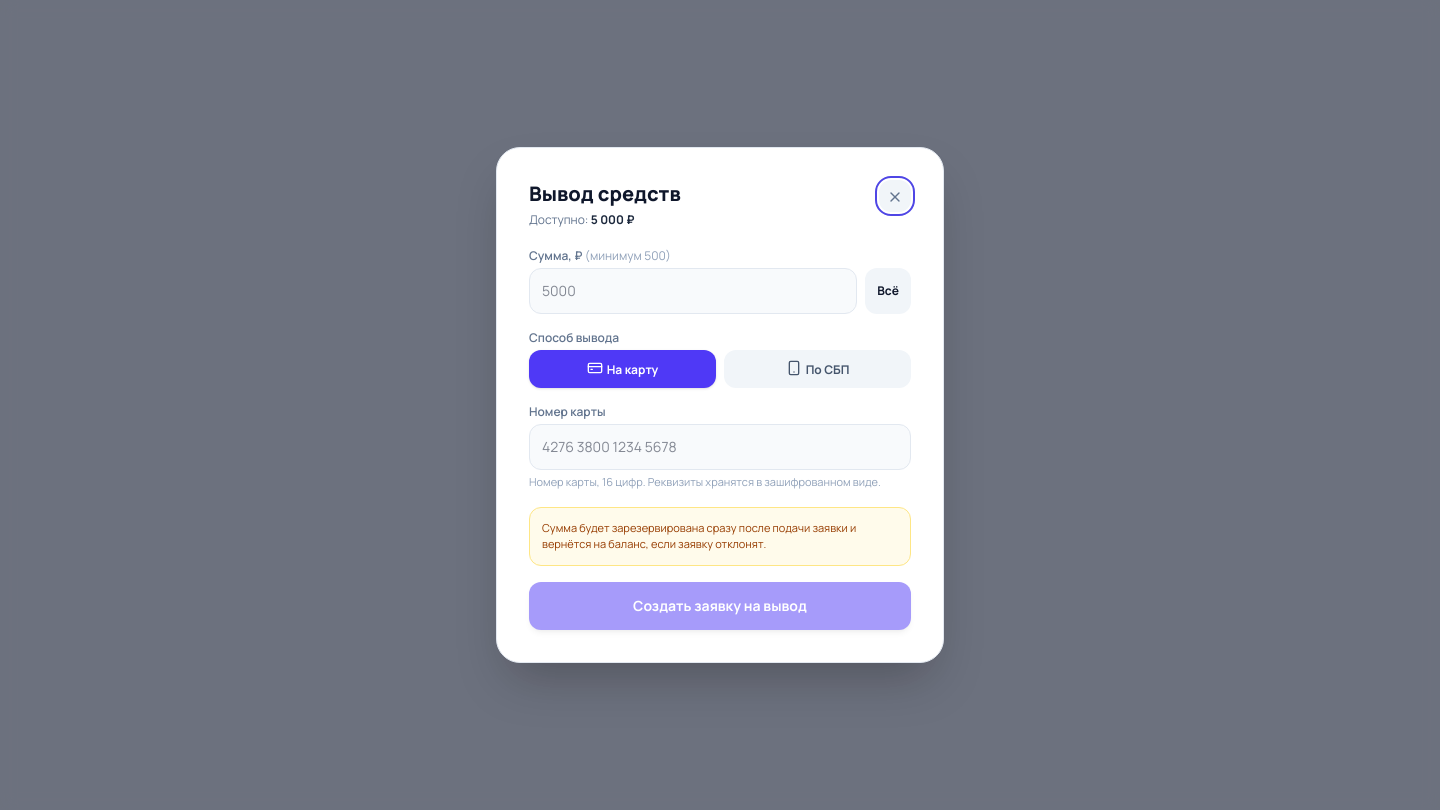
Test: WithdrawModal и неподтверждённая почта › с подтверждённой почтой заявку отправить можно
Type "1000" into the number field labelled "Сумма, ₽ (минимум 500)". click: (693,291)
box: [529,268,857,314]
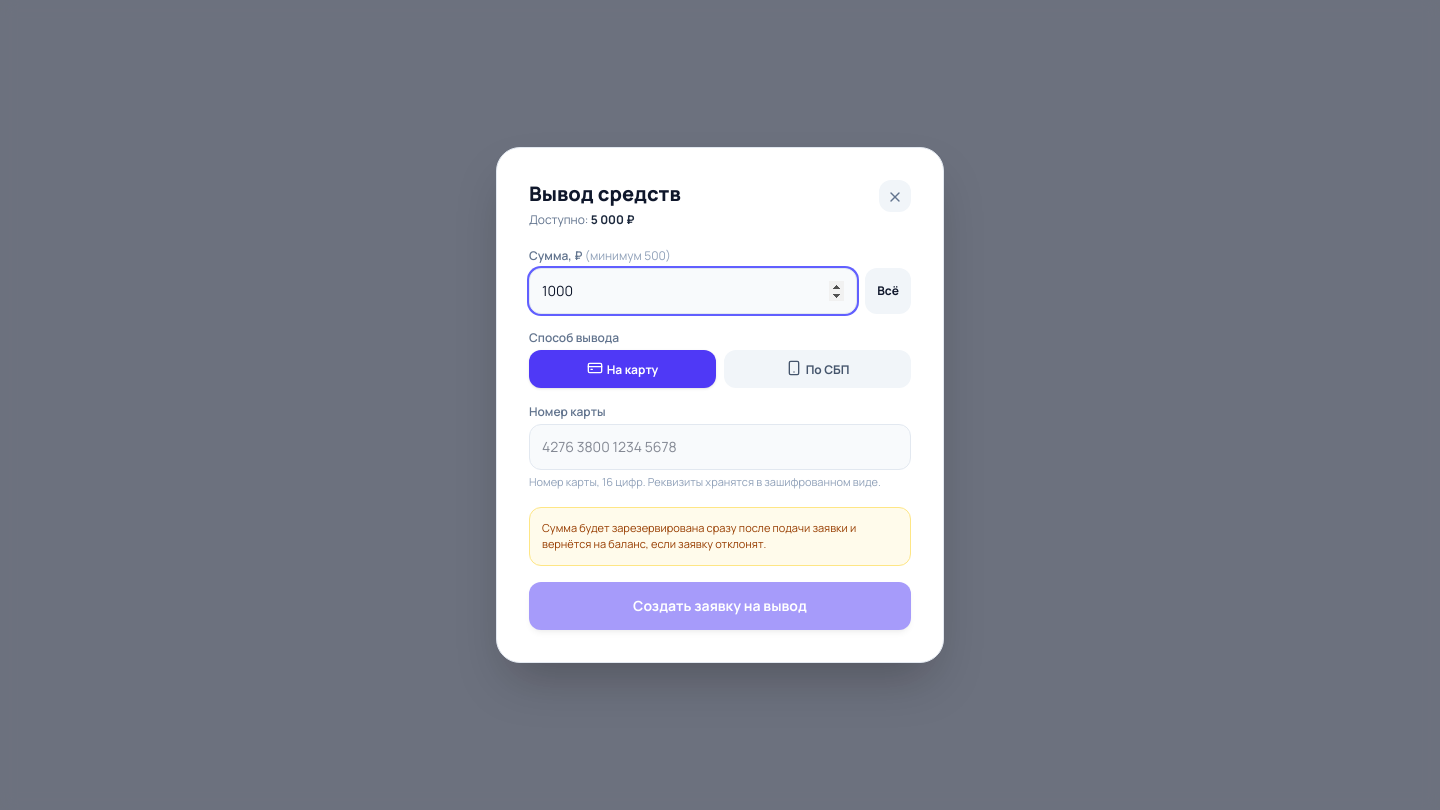
Type "4111111111111111" into the field labelled "Номер карты". click: (720,447)
box: [529,424,911,470]
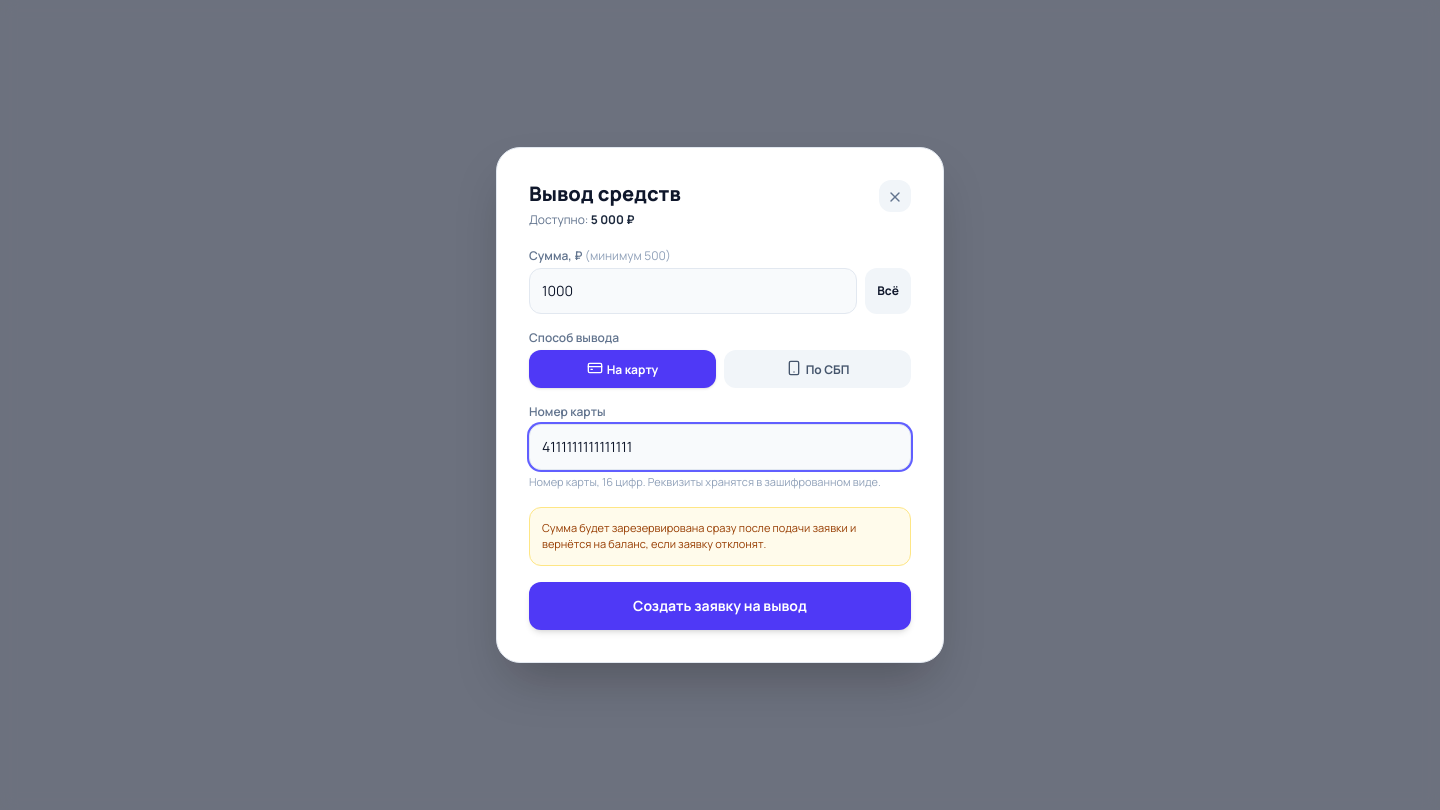
Expected: the button "Создать заявку на вывод" is enabled, [529,582,911,630]
